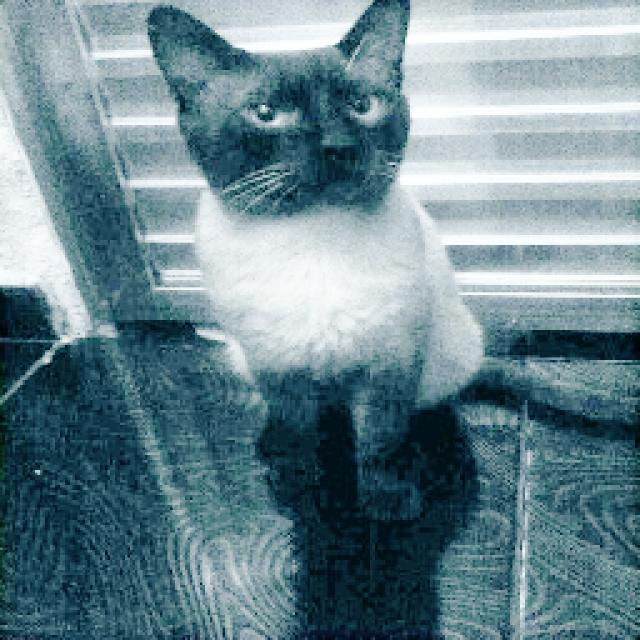cat: (119, 0, 500, 489)
